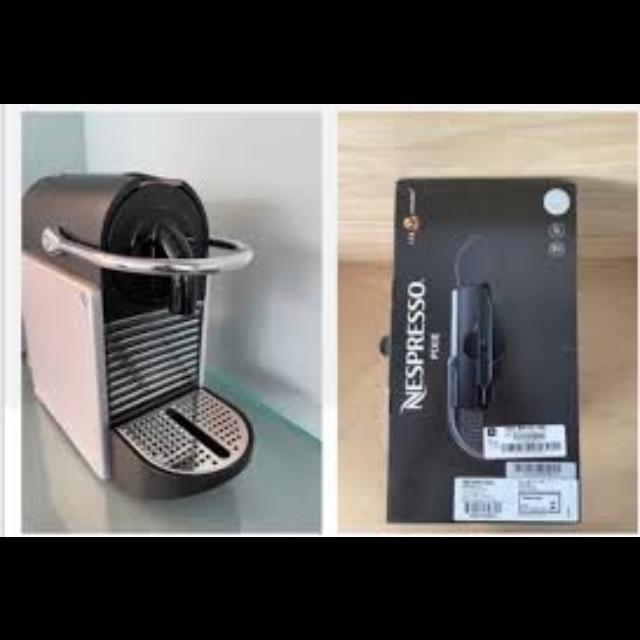Coffee-Machine: (22, 166, 258, 504)
